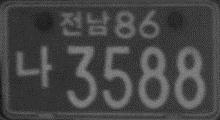3: (64, 43, 99, 109)
5: (101, 45, 134, 109)
6: (138, 8, 160, 38)
8: (173, 44, 207, 109), (138, 45, 170, 109), (114, 9, 136, 39)
나: (15, 42, 52, 89)
전남_O: (60, 9, 110, 38)
